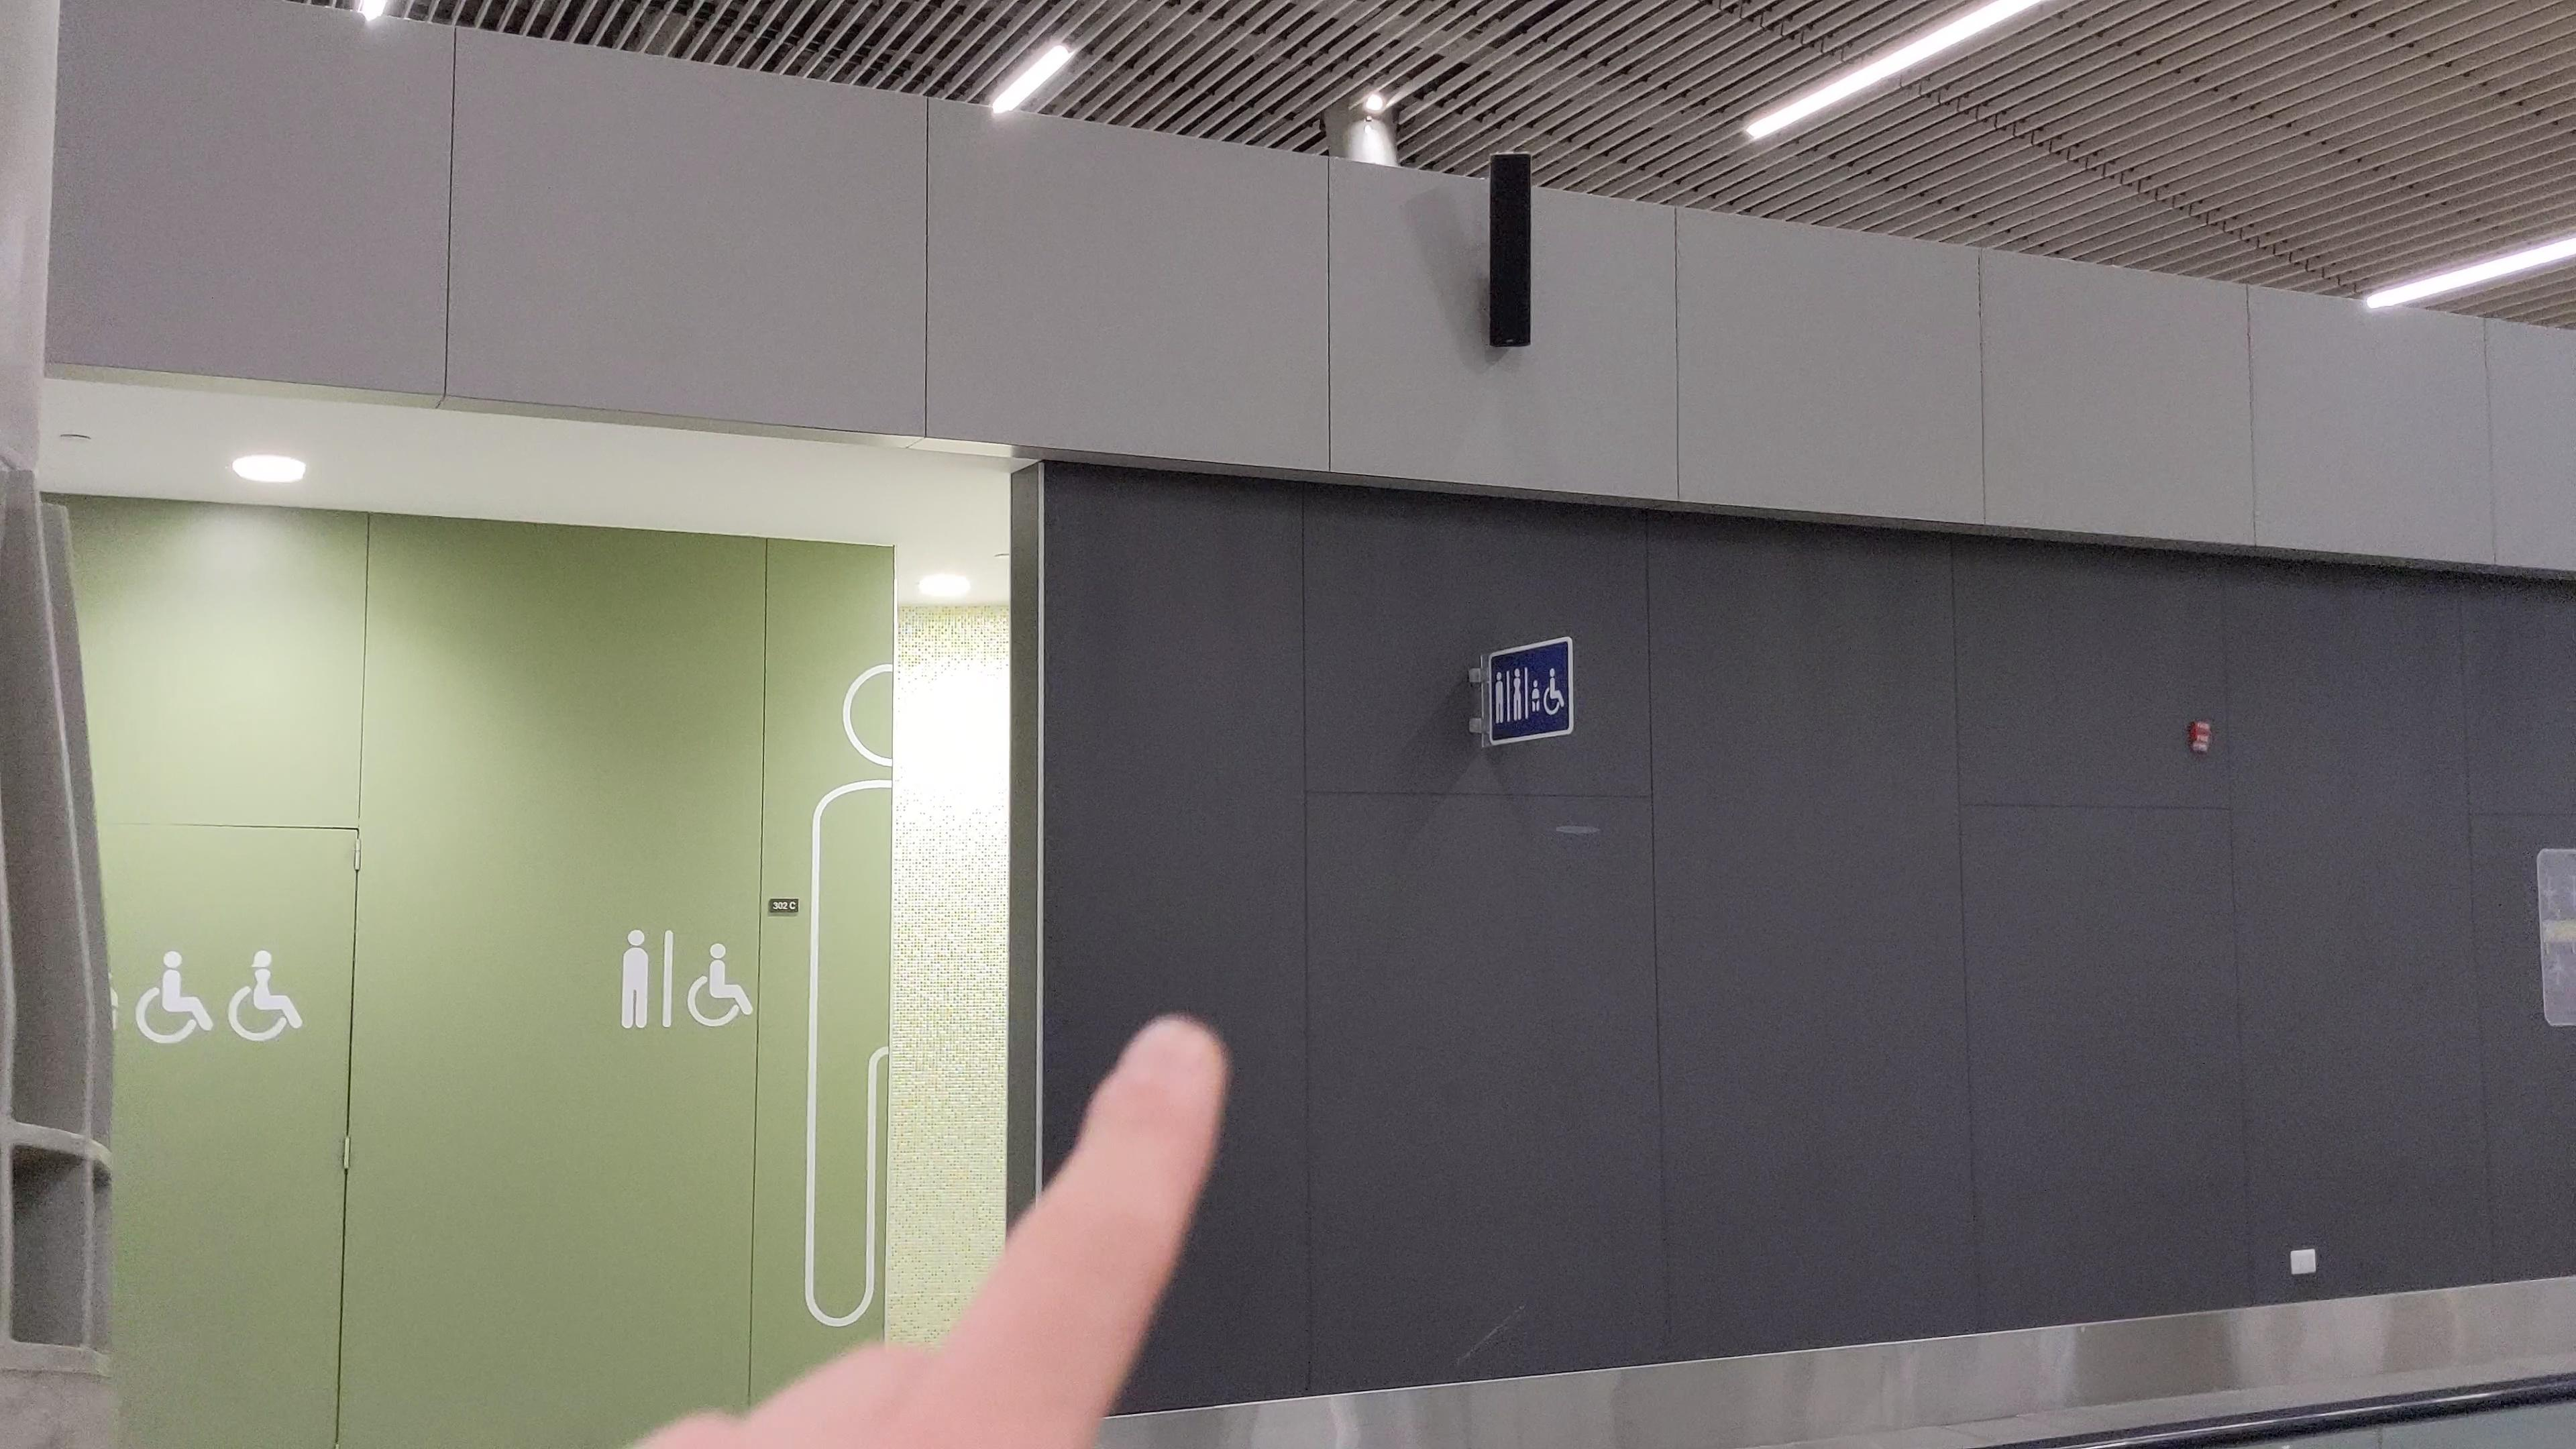bathrooms: (1493, 667, 1523, 725)
handicapped symbol: (133, 948, 216, 1046), (226, 948, 306, 1044), (685, 941, 755, 1028), (1543, 667, 1564, 715)
